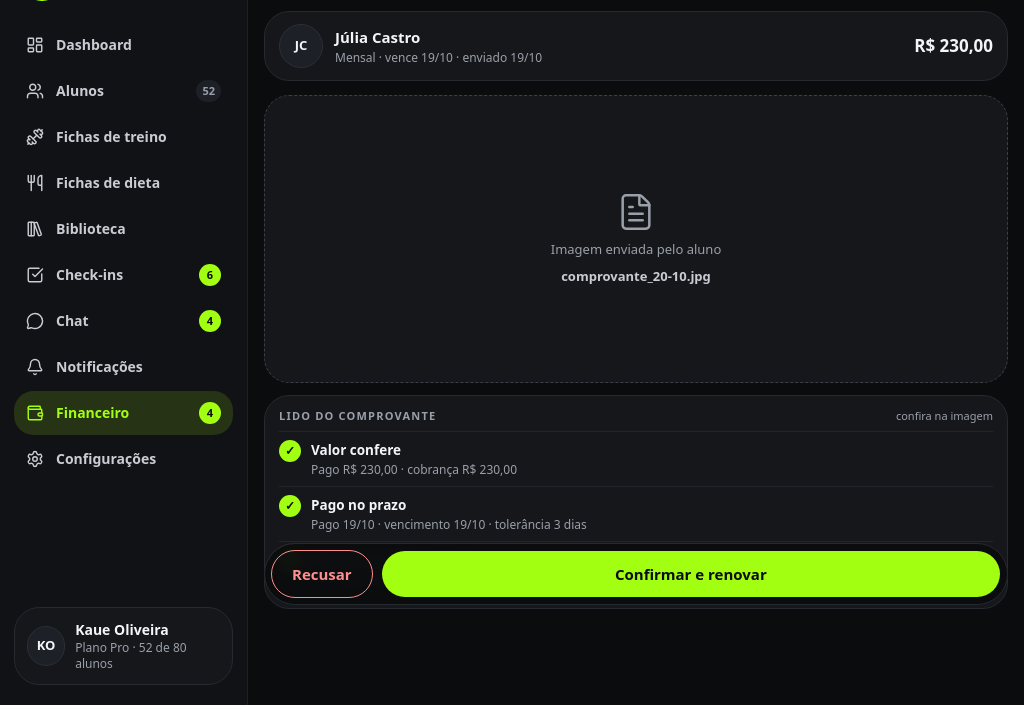
Financeiro (celular) › conferir: confirma um, recusa outro com motivo sugerido e termina
Expected: the text "Júlia Castro" is shown, [335,27,420,47]
Expected: the element named "Conferência" shows "Valor confere", [311,440,401,458]
Click the button "Confirmar e renovar" at (691, 574), box [381,550,1001,598]
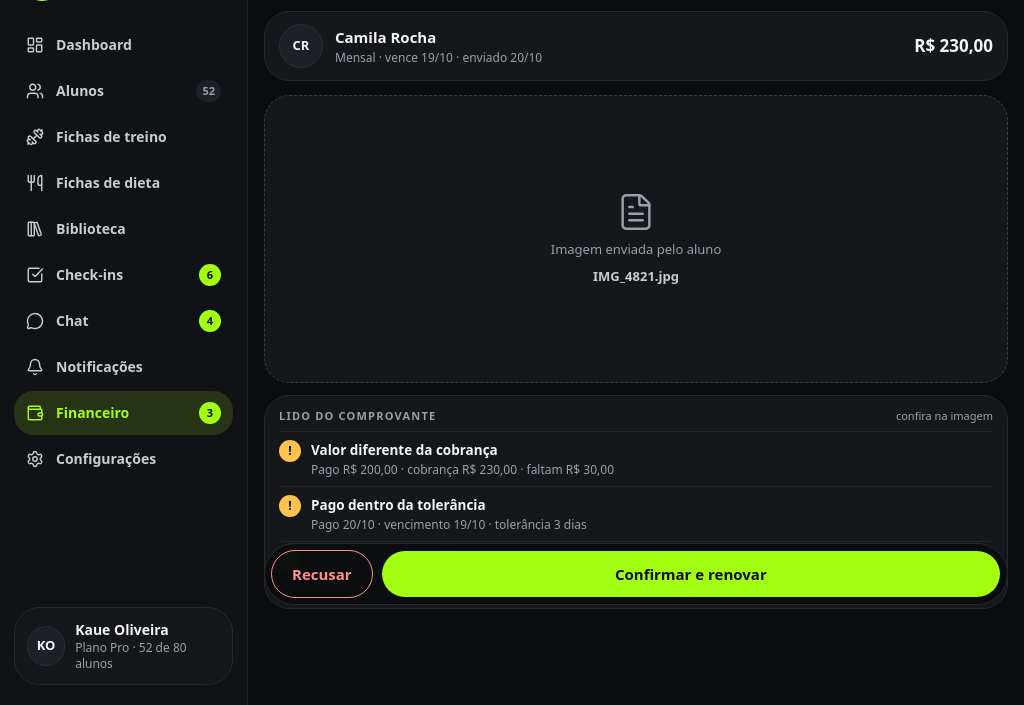
Expected: the text "Valor diferente da cobrança" is shown, [311,440,498,458]
Click the button "Recusar" at (322, 574), box [271,550,373,598]
(page scrolled)
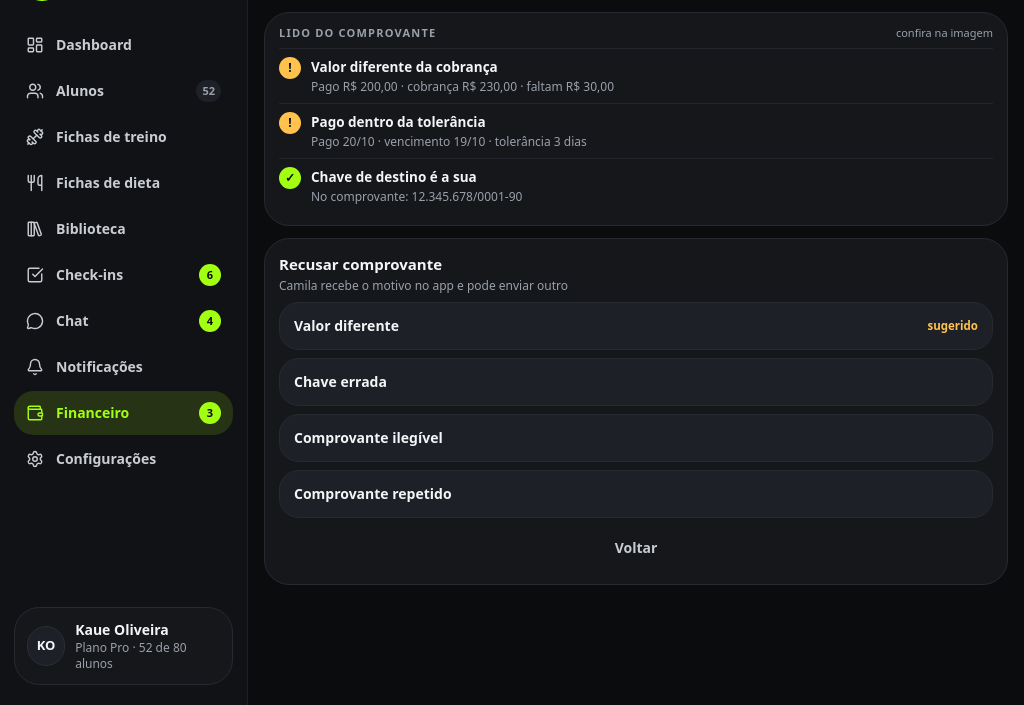
Expected: the button "Valor diferente sugerido" is shown
Click the button "Valor diferente sugerido" at (346, 325), box [279,302,993,350]
(page scrolled)
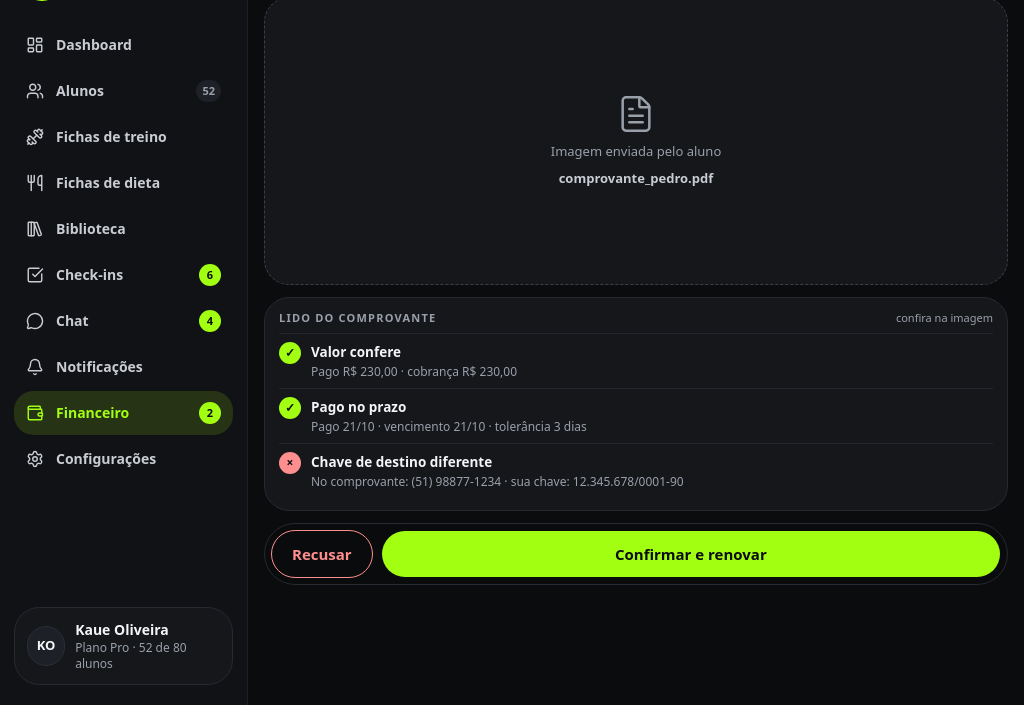
Expected: the text "Chave de destino diferente" is shown, [311,453,492,471]
Click the button "Confirmar e renovar" at (691, 554), box [381,530,1001,578]
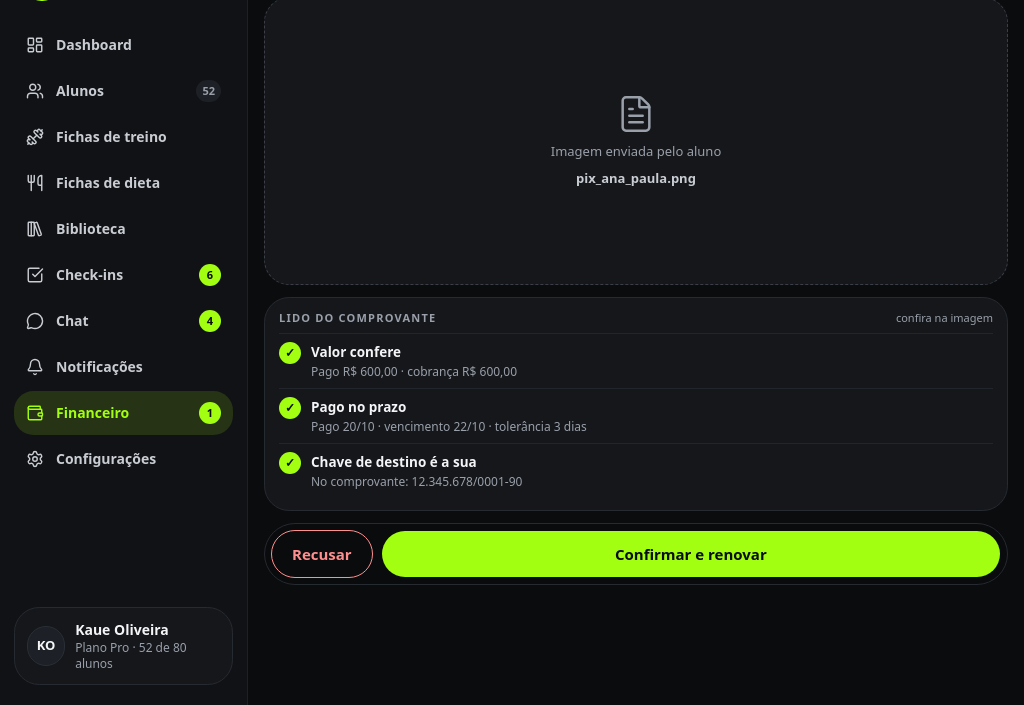
Click the button "Confirmar e renovar" at (691, 554), box [381,530,1001,578]
(page scrolled)
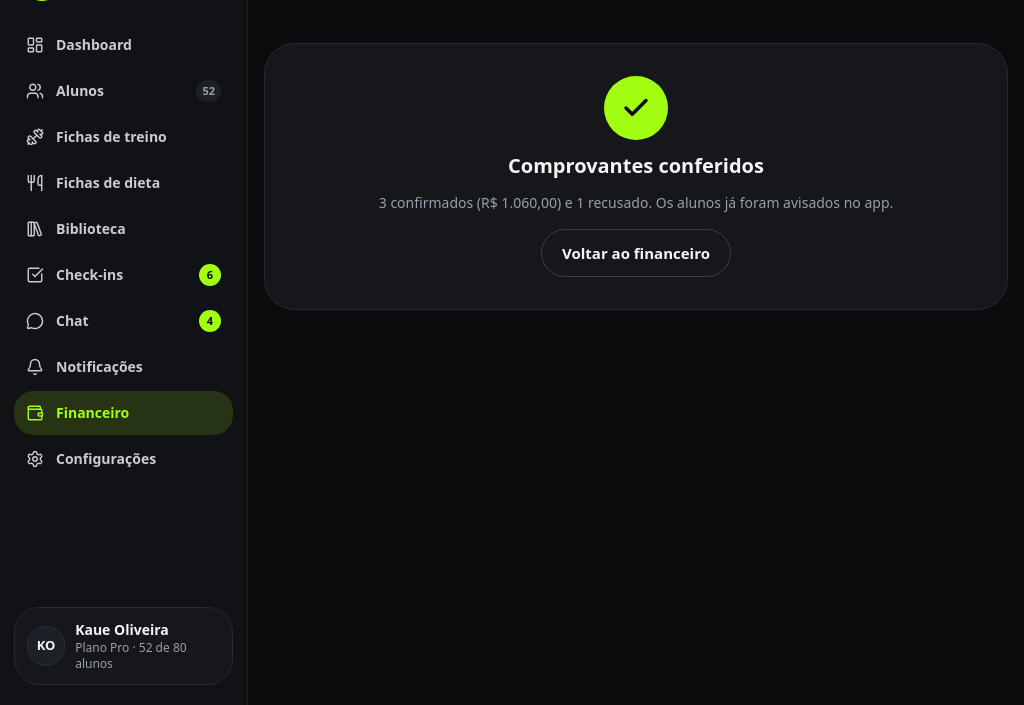
Expected: the heading "Comprovantes conferidos" is shown, [508,152,764,180]
Expected: the text "3 confirmados (R$ 1.060,00) e 1 recusado. Os alunos já foram avisados no app." is shown, [379,192,893,213]
